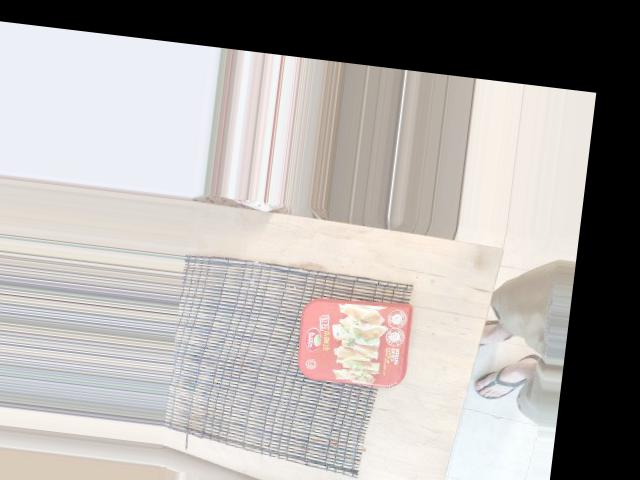cheese: (285, 277, 463, 401)
